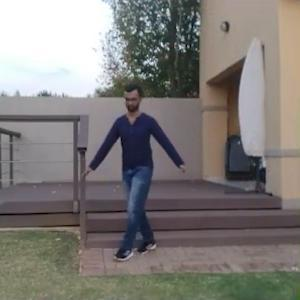land: (90, 92, 196, 266)
